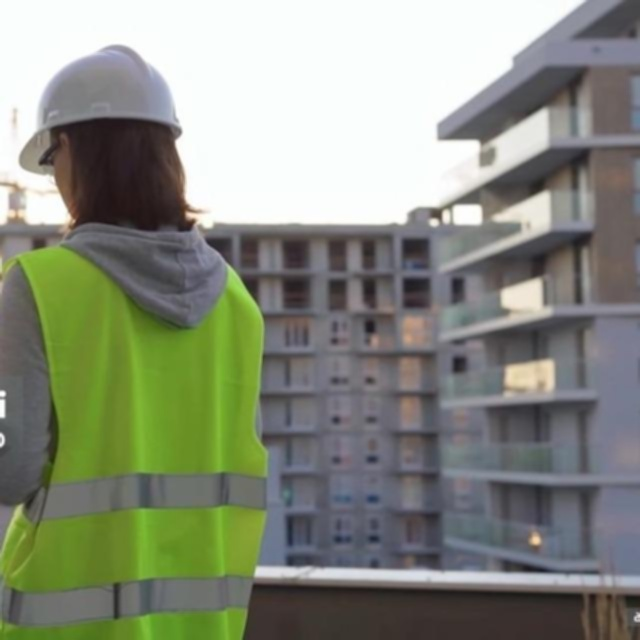Con_Casco: (18, 43, 182, 210)
Con_Chaleco: (0, 223, 268, 640)
